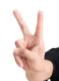front: (9, 6, 46, 71)
